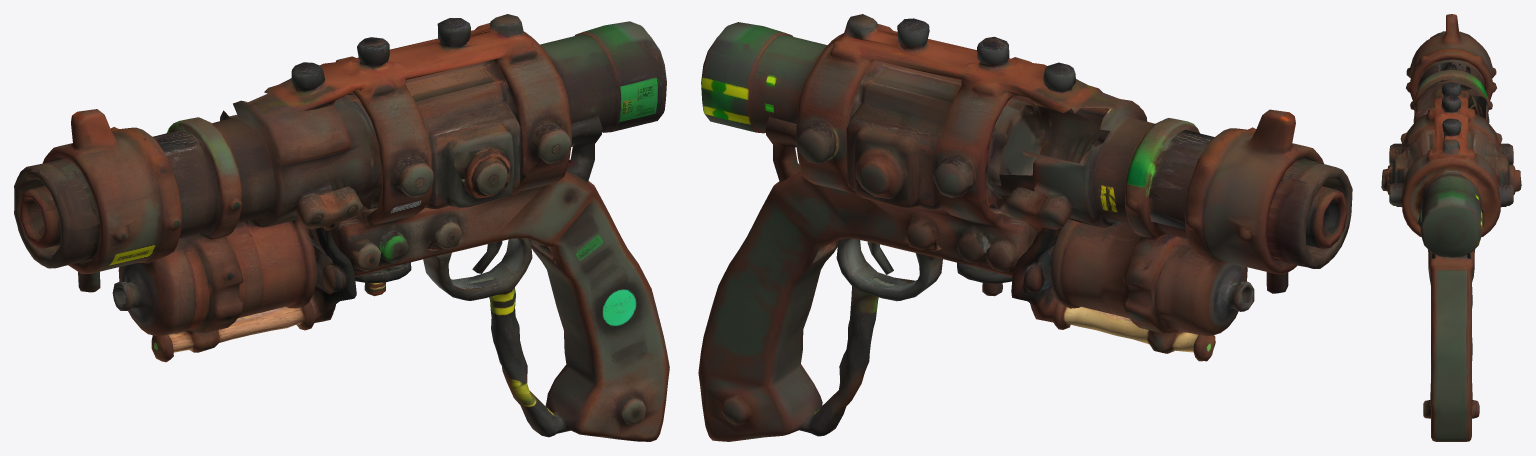
File: PipeBlaster.fbx
3 views of the same model, side by side, from view 1: azimuth 30°, elevation 25°; view 2: azimuth 150°, elevation 25°; view 3: azimuth 270°, elevation 25° (orthographic). The views are drawn at different scales.
Visible parts, largest first — view 1: Mesh_0.001; view 2: Mesh_0.001; view 3: Mesh_0.001.
Part boxes in pixels (box(x1,y1,x2,y2)): Mesh_0.001: box(14, 14, 669, 441); Mesh_0.001: box(698, 14, 1352, 441); Mesh_0.001: box(1381, 14, 1521, 441).
Size of the model in its own units: 20.11 by 14 by 6.65.
1 material, 1 textured.
